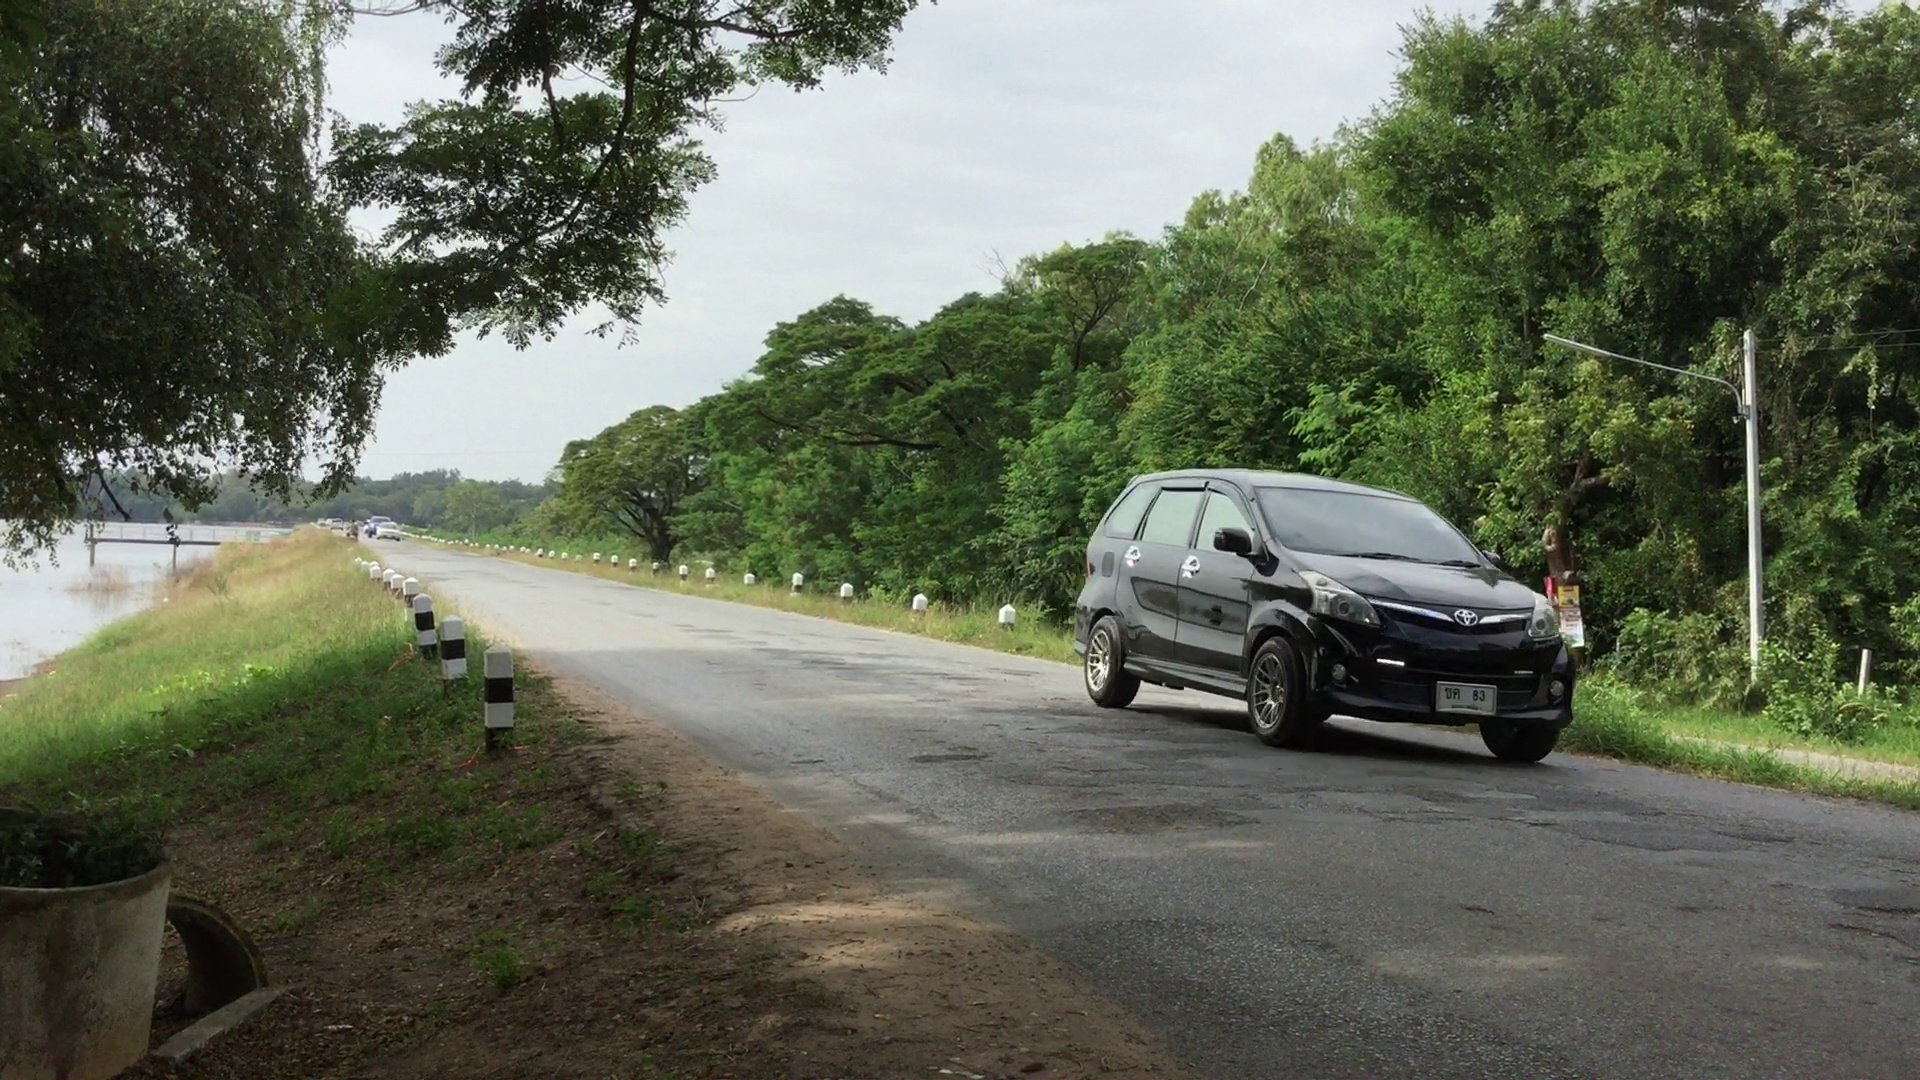car: (1072, 454, 1586, 771), (373, 522, 402, 543)
post: (483, 640, 522, 742), (436, 611, 467, 676), (410, 591, 436, 650)
